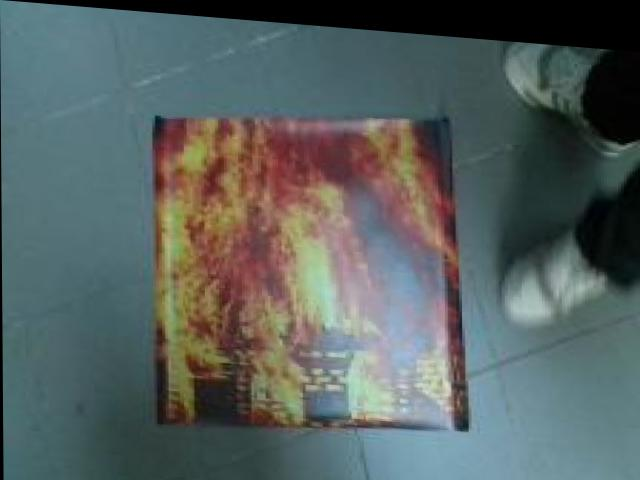fire-poster: (146, 89, 468, 443)
